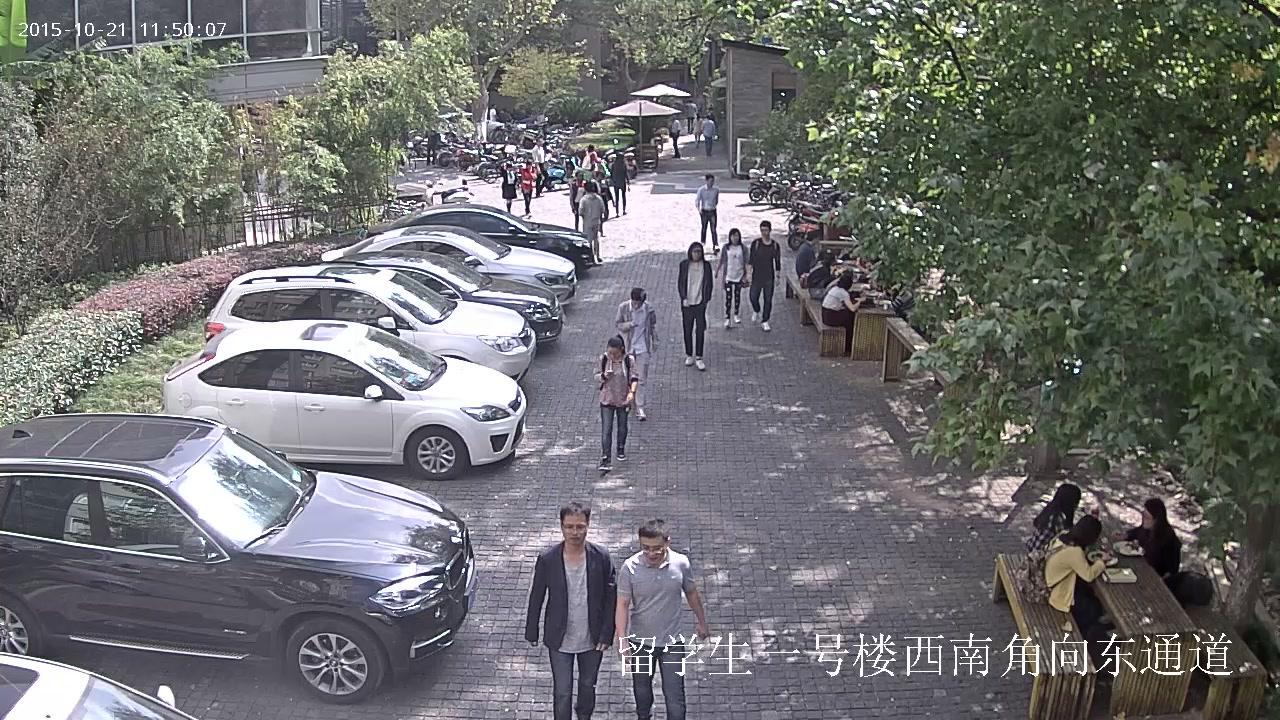face: (563, 513, 586, 544), (640, 537, 665, 564), (1141, 507, 1155, 528), (607, 346, 621, 360), (691, 247, 701, 260), (759, 226, 769, 236), (730, 232, 738, 244), (631, 300, 642, 308), (707, 178, 713, 186), (577, 173, 582, 180), (597, 174, 602, 180), (813, 237, 817, 243), (538, 138, 542, 144), (527, 164, 531, 169), (507, 167, 511, 170)
